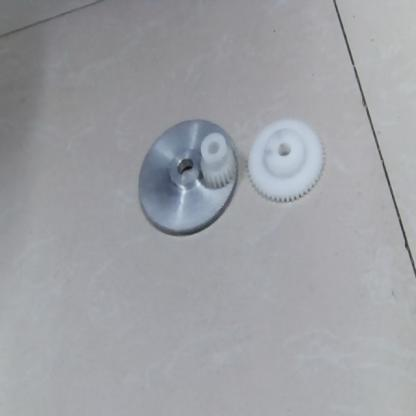FOD: (137, 113, 239, 241), (247, 117, 328, 200), (195, 129, 237, 191)
